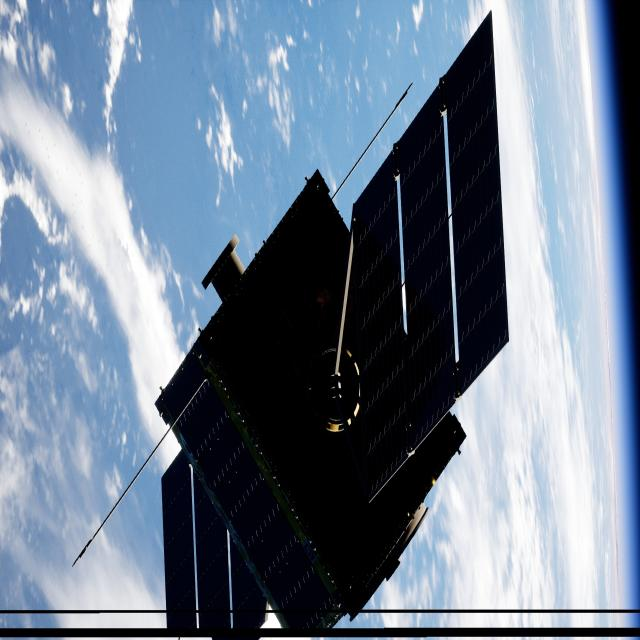medium_debris: (155, 20, 510, 636)
